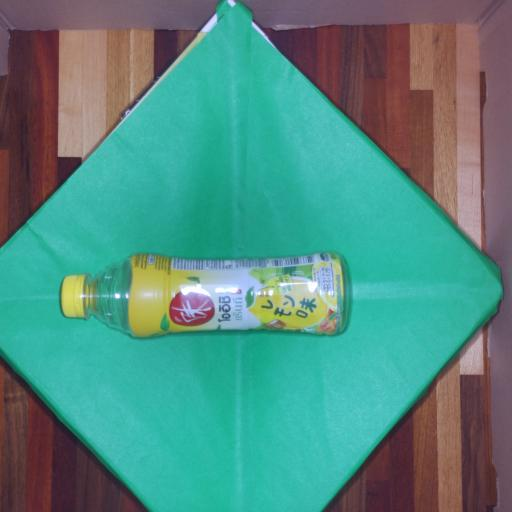bottle: (51, 233, 359, 359)
